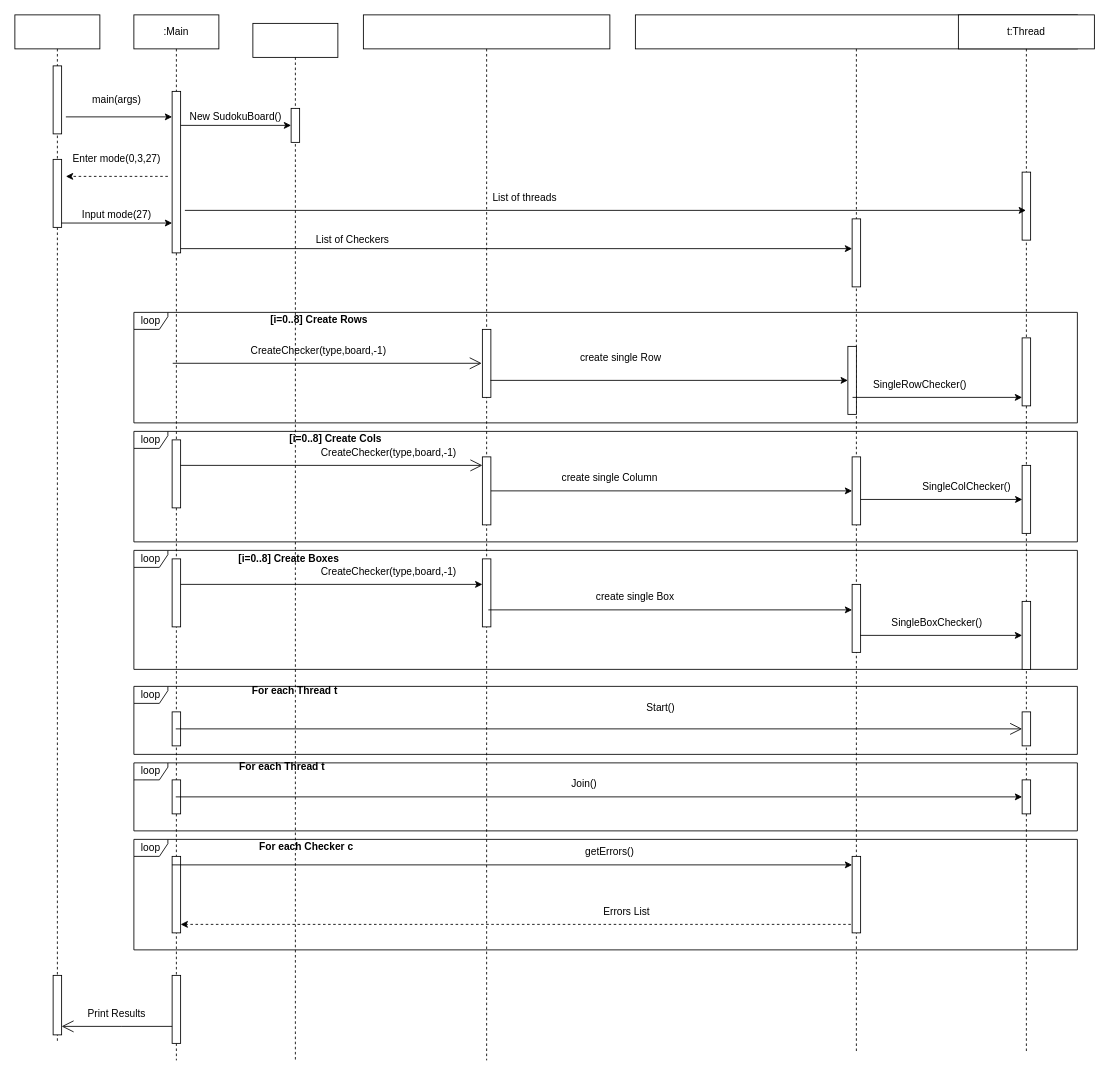
The diagram is 1109 pixels wide and 1075 high, and some of its shapes have lost their labels. Each missing label, with the box of its shape:
:CheckerFactory: (363, 14, 610, 1060)
:SudokuBoard: (252, 23, 338, 1060)
c:Checker: (635, 14, 1077, 1052)
User: (14, 14, 100, 1043)
